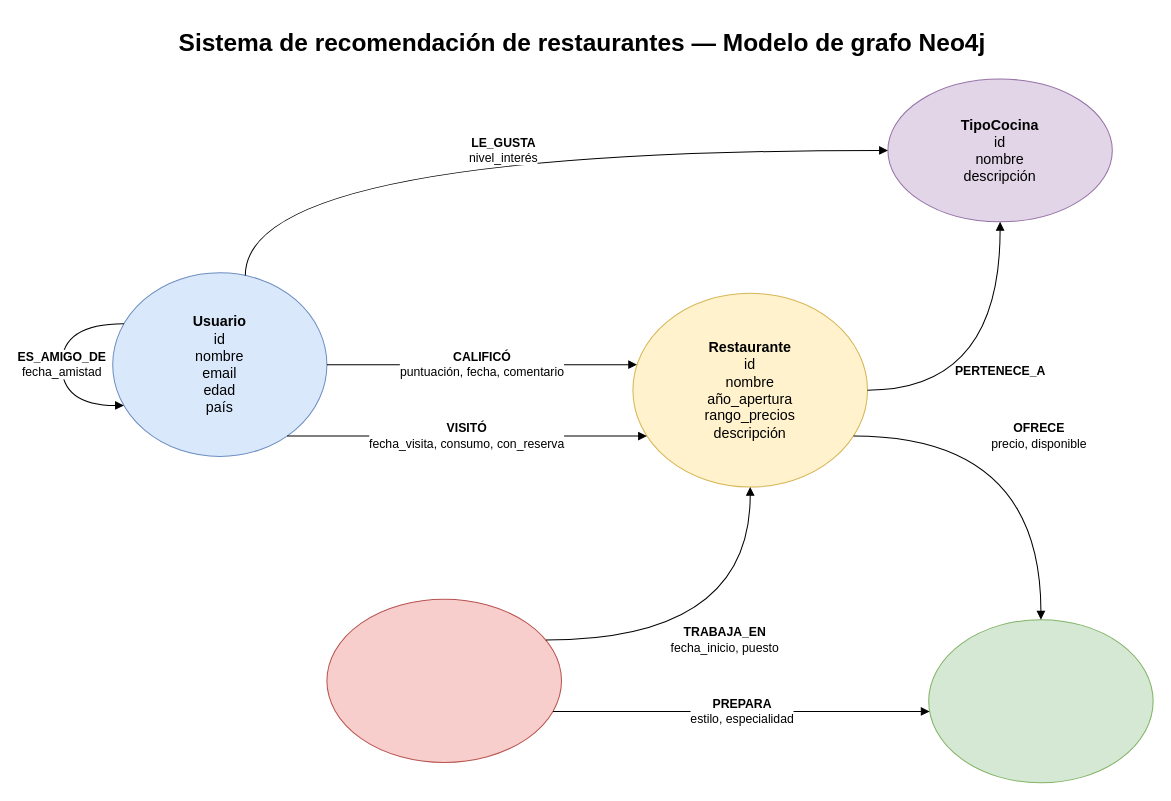
The diagram is 1171 pixels wide and 801 high, and some of its shapes have lost their labels. The shapes that lost their labels are listed below. From the top down, each one's centre as x and y in pixels, then its label:
point (444, 680): Chef id nombre fecha_nacimiento nacionalidad
point (1040, 701): Platillo id nombre precio descripción
